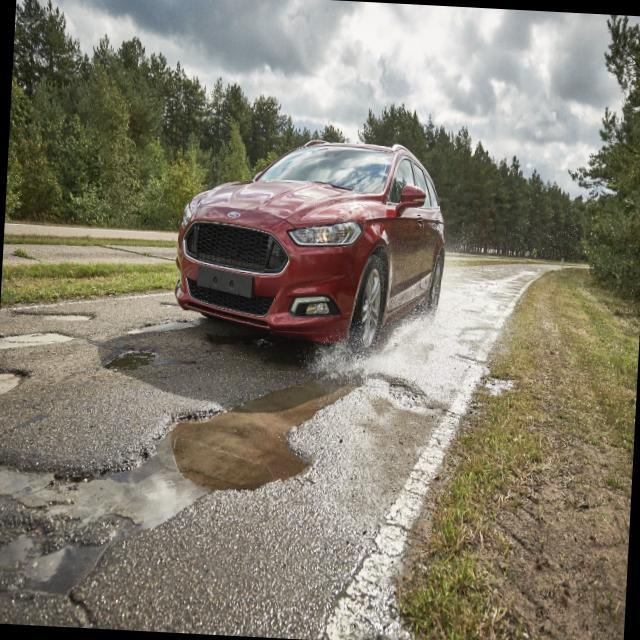Pothole: (158, 346, 446, 527), (104, 332, 166, 378), (0, 367, 49, 417), (0, 300, 102, 322), (0, 327, 93, 350)
